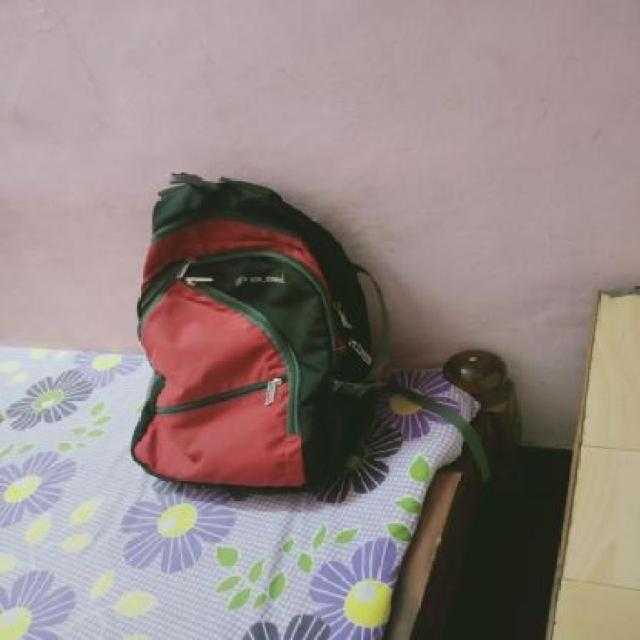backpack: (128, 166, 397, 499)
